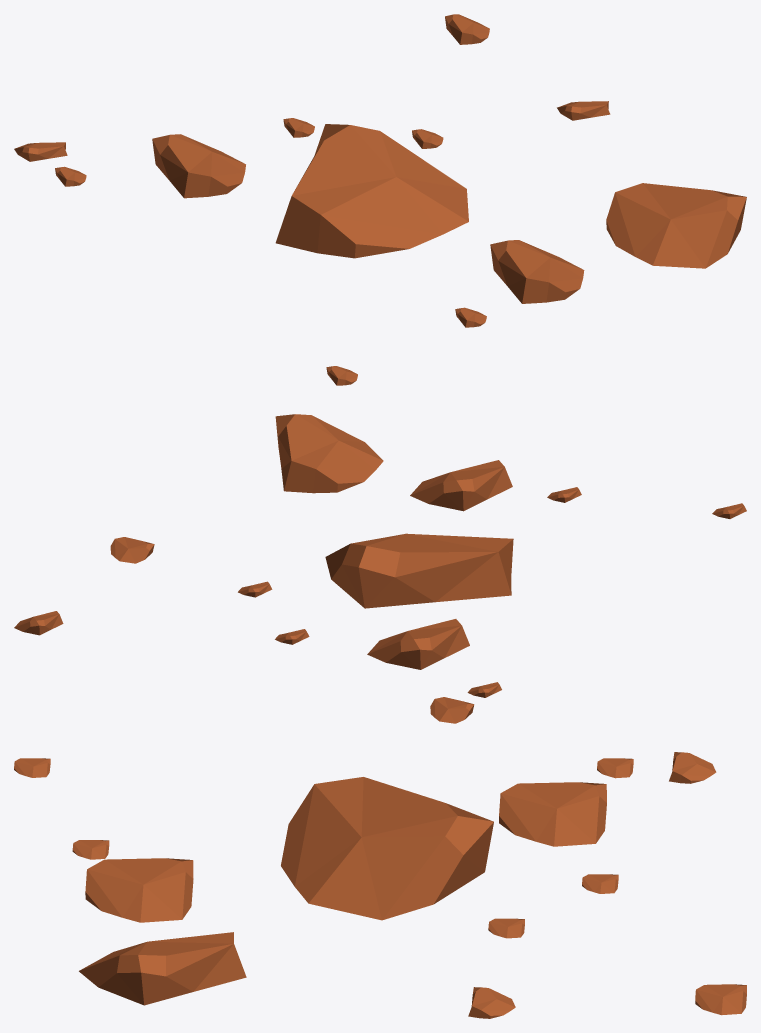
Rendered from model_rock_conyon_scattered.fbx.
3 renders of one model, top to bottom at view 1: azimuth 30°, elevation 25°; view 2: azimuth 150°, elevation 25°; view 3: azimuth 270°, elevation 25°, orthographic. The views are drawn at different scales.
Parts seen in each view (by area): view 1: model_rock_conyon_scattered; view 2: model_rock_conyon_scattered; view 3: model_rock_conyon_scattered.
Boxes of the visible parts, left/top/right/bottom form: model_rock_conyon_scattered: left=14, top=14, right=746, bottom=385; model_rock_conyon_scattered: left=14, top=414, right=746, bottom=723; model_rock_conyon_scattered: left=14, top=752, right=746, bottom=1018.
Size of the model in its own units: 186 by 20.92 by 224.
1 material, 1 textured.
